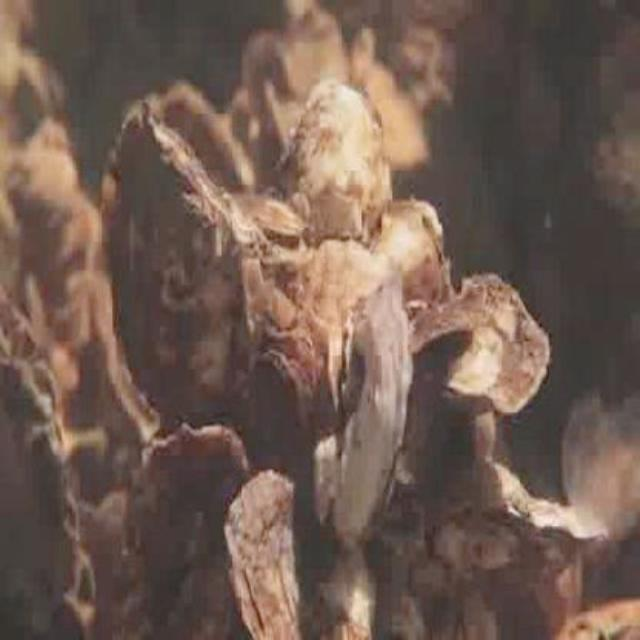Oyster-Closed: (104, 104, 264, 420), (0, 290, 94, 638), (330, 277, 410, 546), (280, 81, 390, 244), (129, 423, 249, 571), (426, 277, 550, 416), (229, 468, 328, 638), (159, 89, 257, 191), (376, 199, 454, 316), (295, 242, 382, 344), (366, 63, 428, 174), (409, 284, 487, 366), (285, 12, 351, 101), (512, 494, 609, 553), (257, 350, 316, 446), (449, 461, 526, 514), (240, 33, 289, 104), (558, 597, 638, 638), (542, 554, 586, 624), (261, 85, 292, 179), (244, 197, 307, 234), (346, 31, 375, 89)
Oyster-Open: (329, 317, 365, 432)
